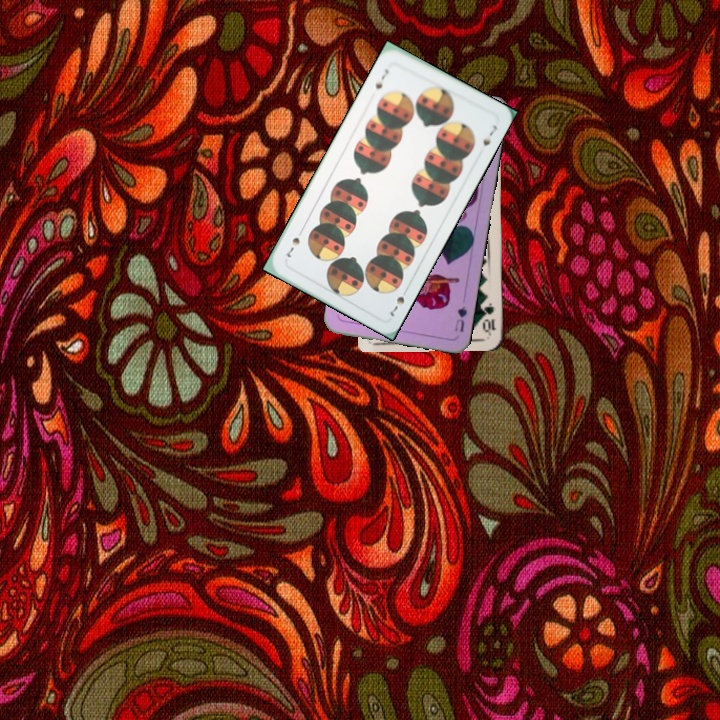G10: (480, 299, 498, 336)
GU: (451, 302, 470, 335)
S7: (386, 283, 411, 319), (371, 65, 391, 92)
